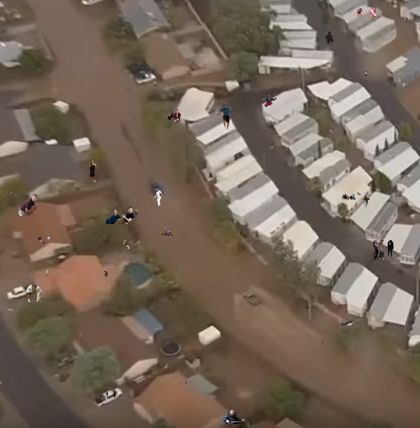Human: (106, 207, 138, 224), (217, 103, 235, 130), (18, 194, 39, 216), (373, 240, 394, 260), (342, 193, 370, 207), (164, 109, 181, 128), (222, 410, 245, 424), (26, 283, 42, 303), (88, 159, 97, 185), (357, 8, 376, 20), (264, 94, 277, 111), (153, 188, 163, 207), (38, 236, 50, 247), (159, 227, 173, 236), (325, 31, 334, 45), (90, 211, 101, 222), (100, 391, 116, 398), (123, 239, 132, 251), (341, 320, 355, 326), (321, 339, 330, 344), (10, 192, 17, 196), (104, 271, 108, 278), (46, 268, 49, 276), (154, 82, 158, 87), (137, 180, 140, 185), (243, 338, 247, 341), (170, 337, 172, 342), (389, 174, 391, 179), (365, 71, 367, 76), (185, 380, 187, 385), (79, 333, 82, 336)
